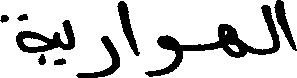X: (0, 9, 53, 69), (76, 1, 117, 77), (119, 0, 137, 71), (218, 19, 245, 62), (159, 30, 181, 77), (261, 0, 278, 59), (280, 0, 296, 55), (63, 15, 74, 68)
